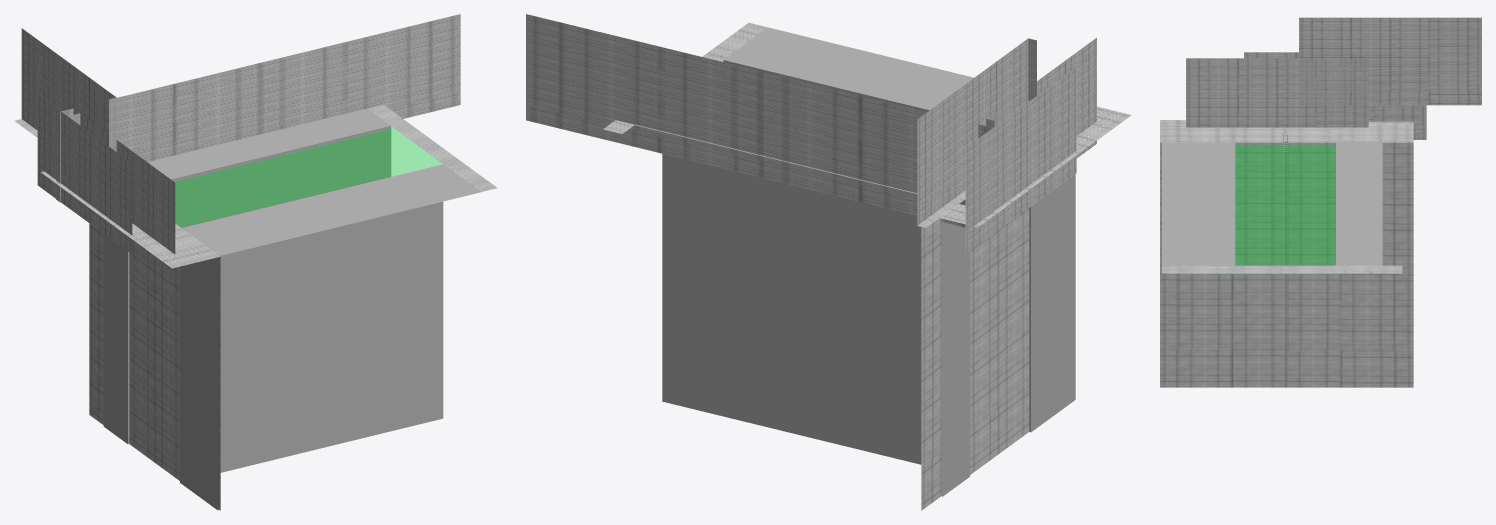
The model's file is liminal-spaces-poolroom.glb.
3 renders of one model, left to right at view 1: azimuth 30°, elevation 25°; view 2: azimuth 150°, elevation 25°; view 3: azimuth 270°, elevation 25°, orthographic. The views are drawn at different scales.
Size of the model in its own units: 108 by 94.22 by 77.33.
Materials: 3 (1 with a texture image).
